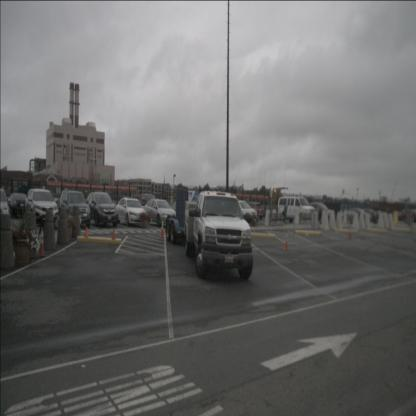movable_object-trafficcone: (37, 226, 46, 258), (160, 218, 166, 238), (84, 226, 90, 243), (284, 231, 289, 251), (112, 228, 116, 245), (348, 226, 352, 239)
vehicle-car: (26, 189, 58, 226), (59, 189, 89, 228), (88, 190, 118, 228), (278, 196, 314, 227), (116, 197, 145, 226), (145, 198, 174, 226), (8, 190, 27, 218), (240, 201, 258, 227), (0, 186, 11, 225)
vehicle-truck: (185, 190, 252, 279)
